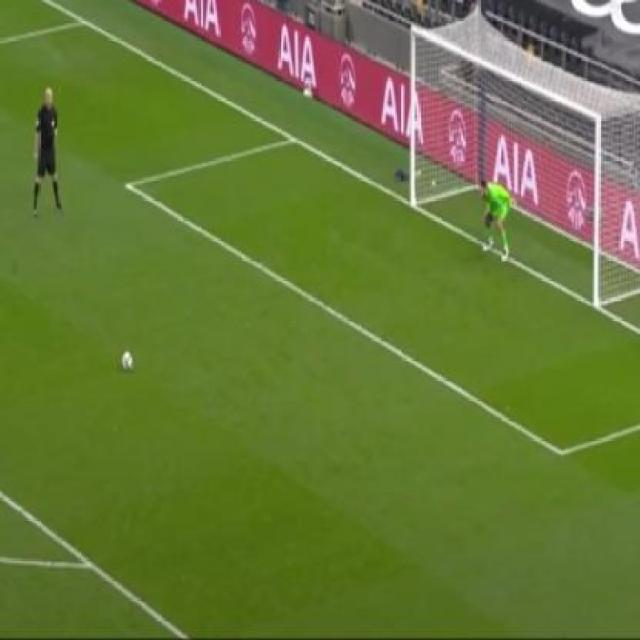arbitre: (29, 85, 62, 217)
ball: (109, 349, 147, 381)
cage: (412, 30, 600, 306)
gardien: (475, 177, 514, 261)
